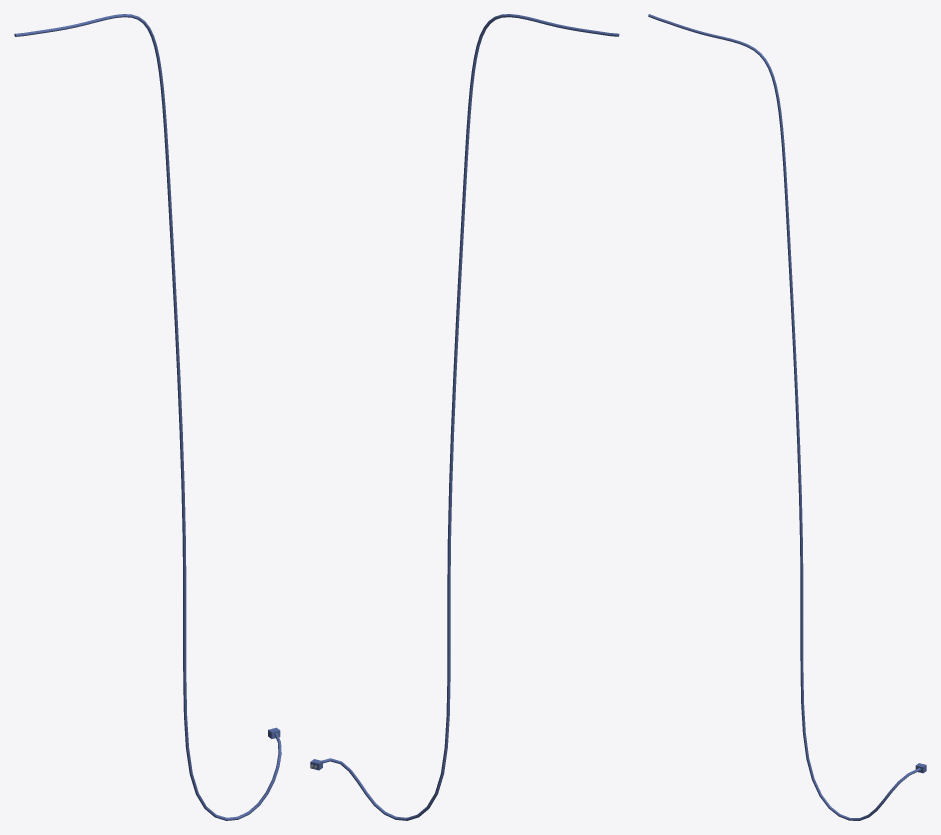
File: Cordplug.fbx
3 views of the same model, side by side, from view 1: azimuth 30°, elevation 25°; view 2: azimuth 150°, elevation 25°; view 3: azimuth 330°, elevation 25° (orthographic). The views are drawn at different scales.
Parts seen in each view (by area): view 1: pCylinder1; view 2: pCylinder1; view 3: pCylinder1.
Boxes of the visible parts, x1=… form: pCylinder1: x1=14, y1=14, x2=281, y2=820; pCylinder1: x1=322, y1=14, x2=619, y2=820; pCylinder1: x1=648, y1=14, x2=920, y2=820.
Size of the model in its own units: 1.69 by 4.76 by 0.2691.
